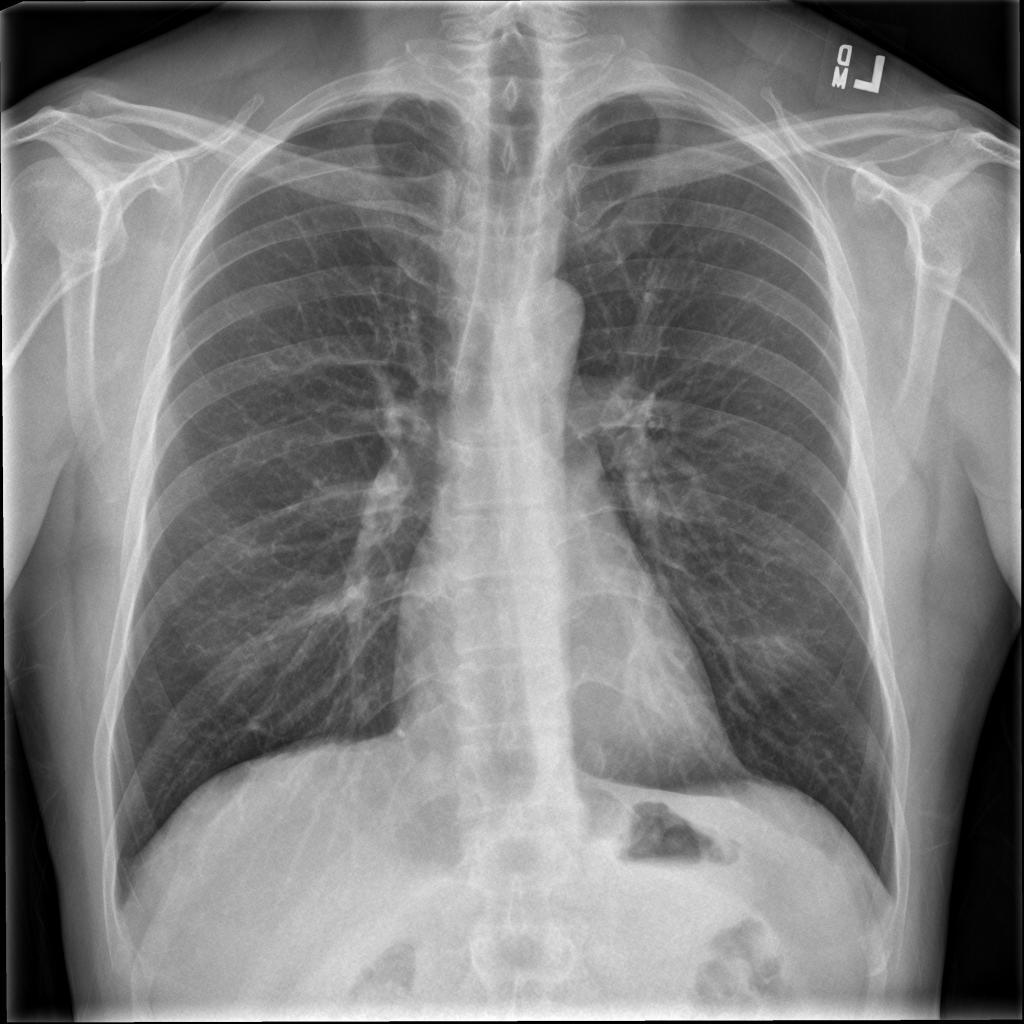Nodule: (119, 138, 130, 148)
